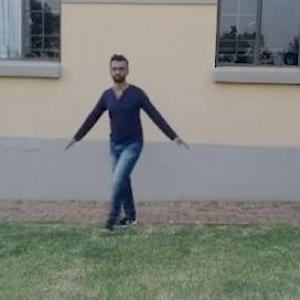land: (57, 53, 192, 230)
